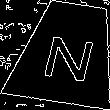N_N: (36, 24, 98, 82)
